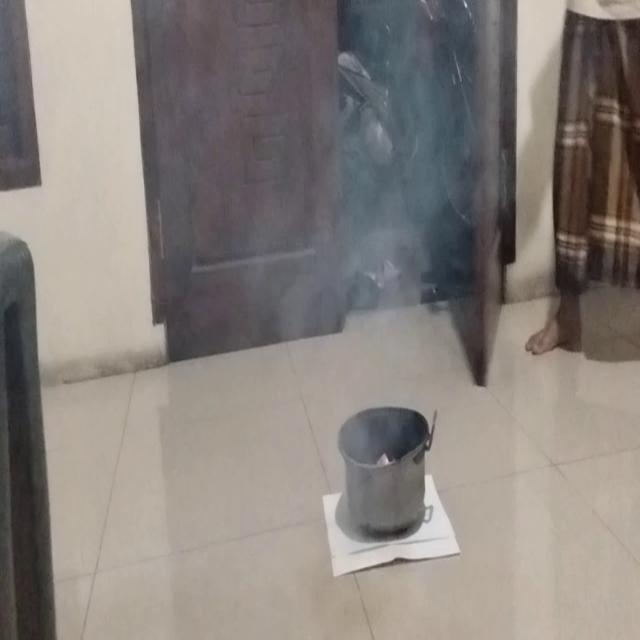smoke: (297, 114, 416, 365)
